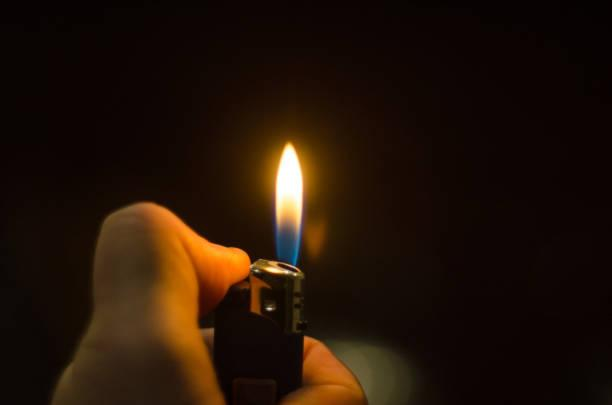Fire: (271, 139, 307, 262)
